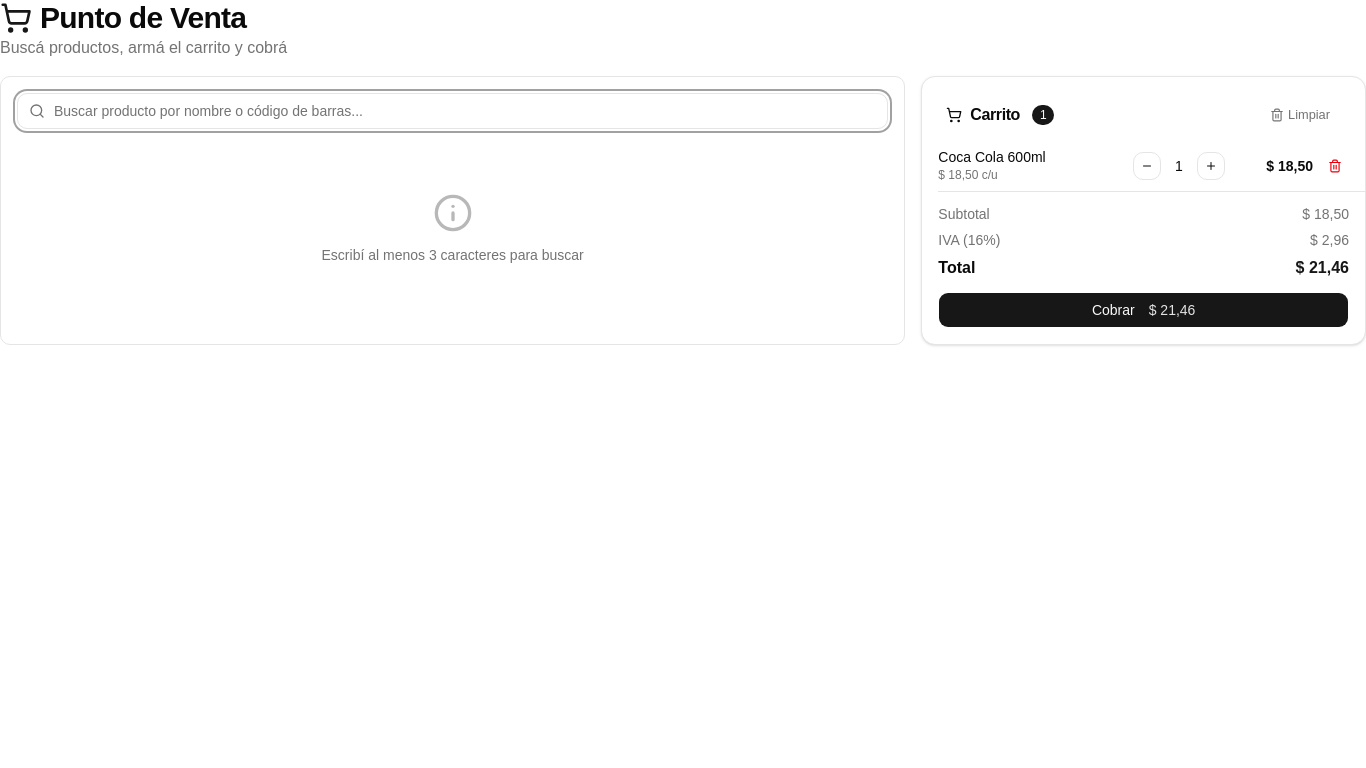
Test: SalesPage integration › opens the payment dialog when "Cobrar" is clicked with items in cart
Click the button "Cobrar $ 21,46" at (1113, 310), box [938,292,1349,328]
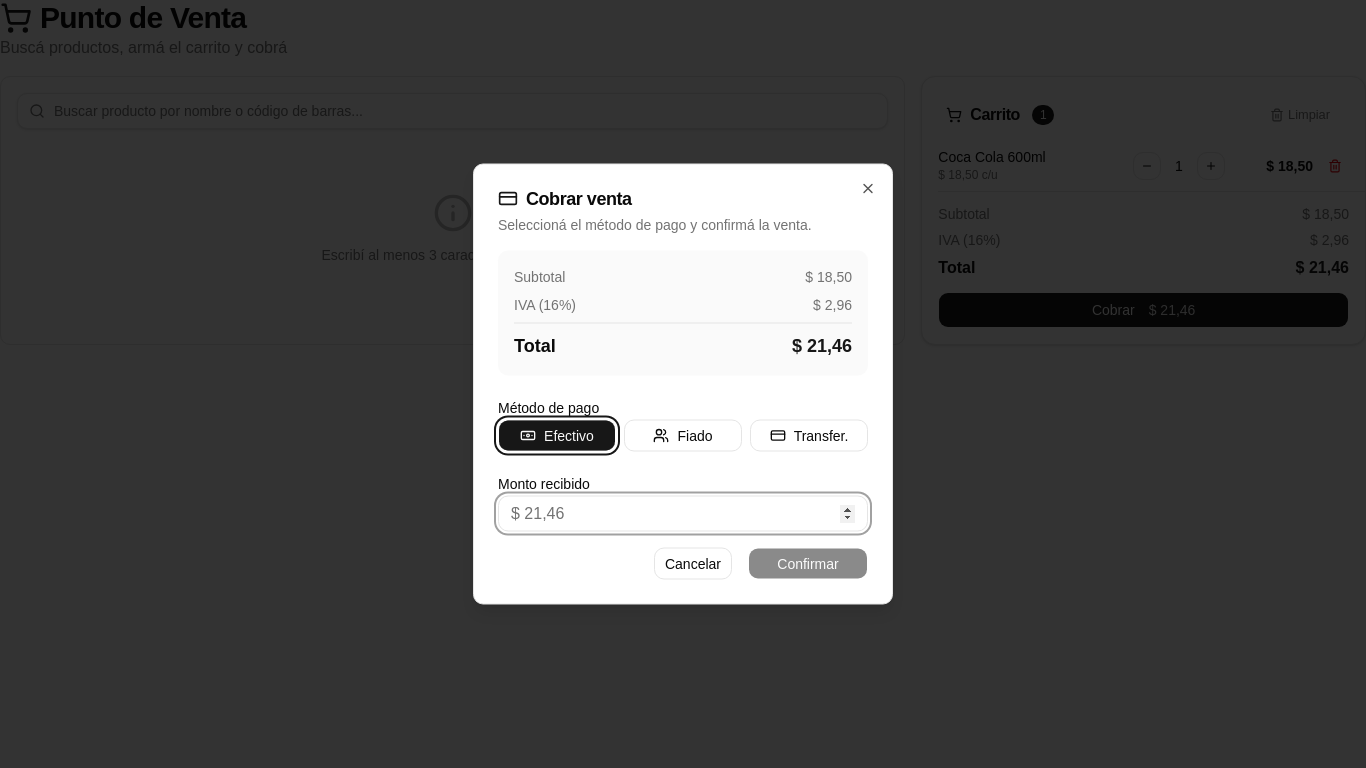
expect the heading "Cobrar venta" is shown: met, box [498,188,632,208]
